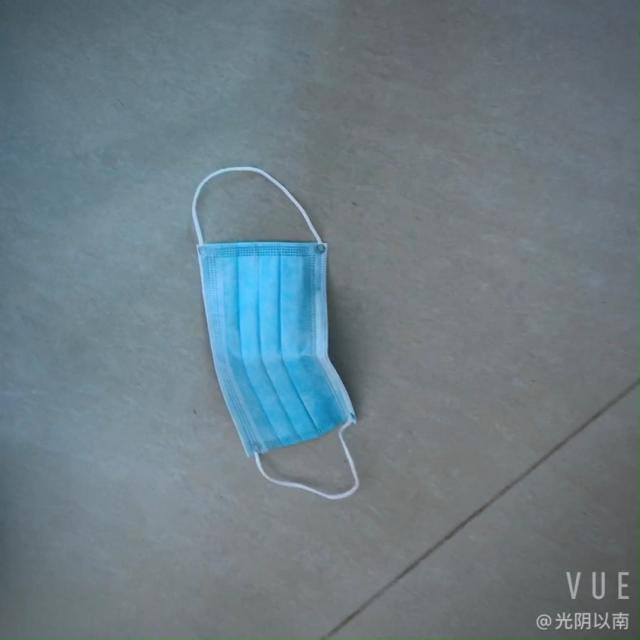non-organic waste: (180, 150, 352, 508)
